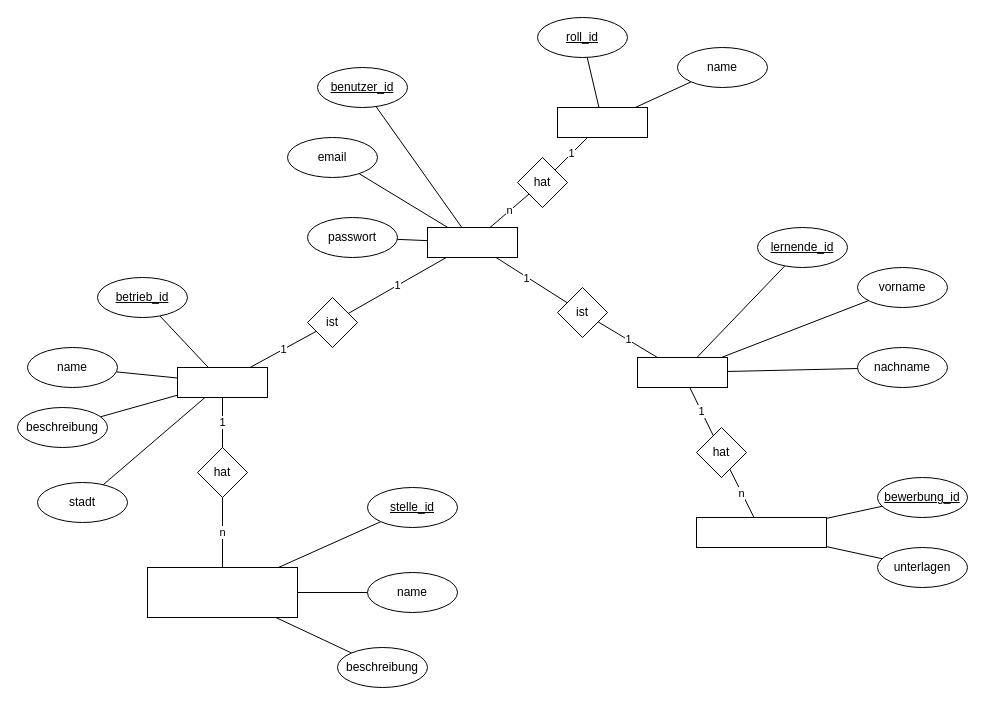
Image size: 985x705. Some labels were removed from this diagram. The box of each missing label's shape, as (x1, y1, x2, y2) in pixels:
Benutzer: (426, 226, 518, 258)
Betrieb: (176, 366, 268, 398)
Bewerbung: (696, 516, 826, 548)
Lernende: (636, 356, 728, 388)
Praktikumsstelle: (146, 566, 298, 618)
Role: (556, 106, 648, 138)
